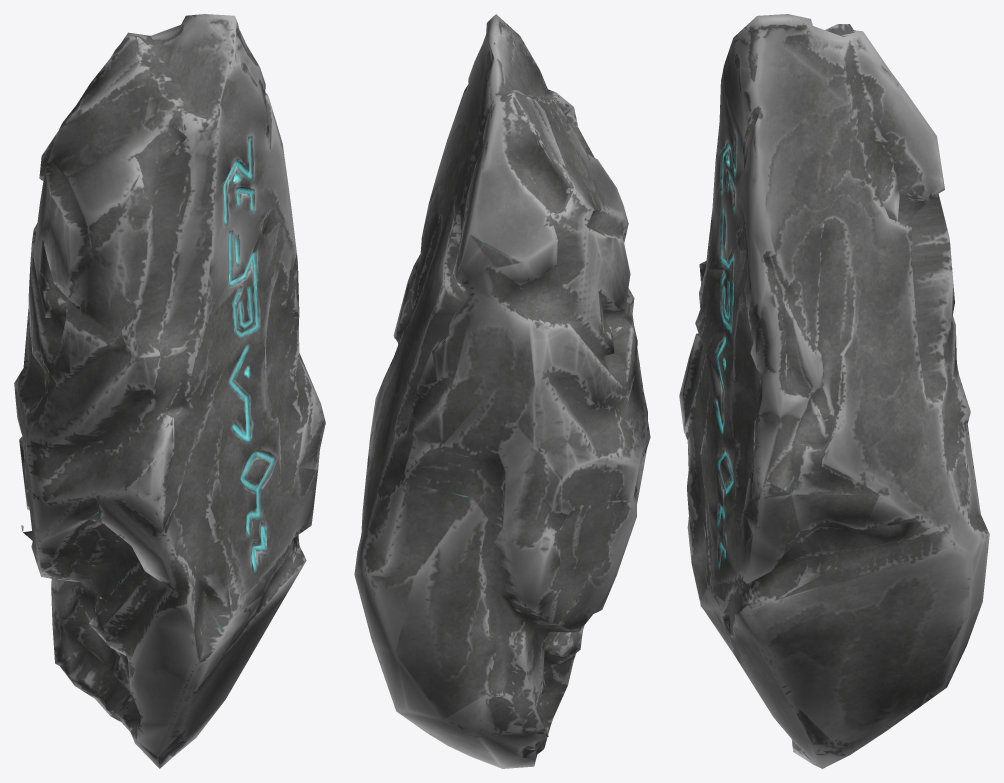
File: runeRock.glb
3 renders of one model, left to right at view 1: azimuth 30°, elevation 25°; view 2: azimuth 150°, elevation 25°; view 3: azimuth 270°, elevation 25°, orthographic. The views are drawn at different scales.
Visible parts, largest first — view 1: runestone_low; view 2: runestone_low; view 3: runestone_low.
Part boxes in pixels (x1,y1,x2,y2): runestone_low: (14, 14, 325, 768); runestone_low: (354, 14, 650, 768); runestone_low: (679, 14, 989, 768).
Size of the model in its own units: 4.01 by 10.68 by 3.93.
Materials: 1 (1 with a texture image).
